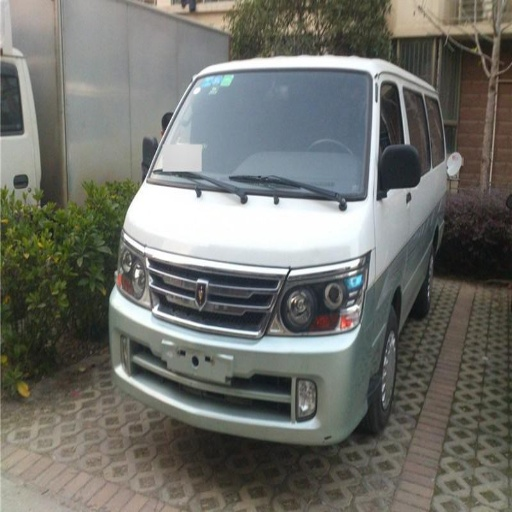front_bumper: (111, 244, 382, 443)
front_glass: (149, 70, 371, 200)
front_left_door: (376, 74, 422, 239)
front_right_light: (119, 240, 145, 305)
